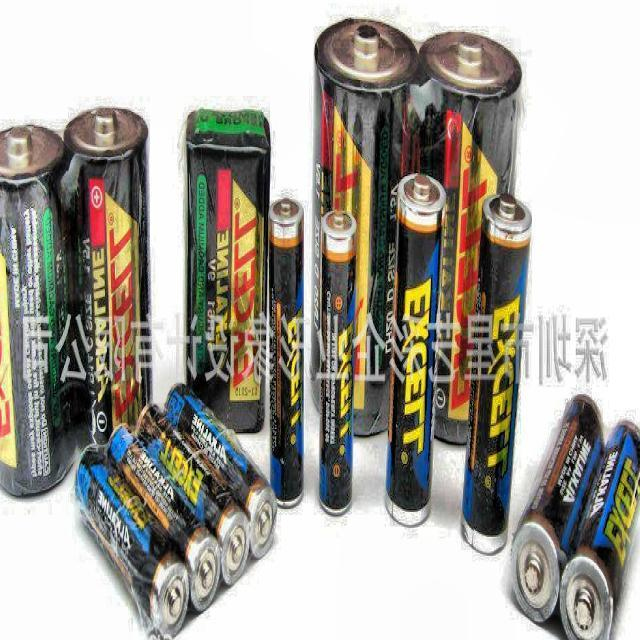battery: (409, 29, 521, 445), (310, 17, 418, 436), (63, 108, 151, 449), (0, 125, 81, 495), (186, 108, 270, 432), (463, 192, 531, 553), (75, 445, 190, 639), (109, 425, 221, 611), (386, 175, 445, 522), (513, 396, 603, 623), (136, 404, 250, 583), (165, 384, 277, 559), (559, 422, 640, 640), (319, 209, 358, 515), (269, 198, 304, 505)
